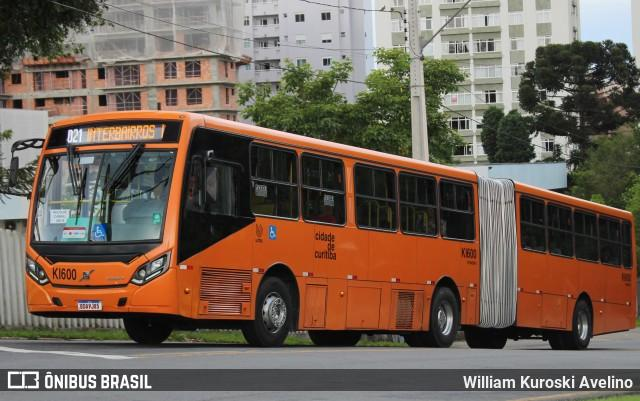INTERBAIRROS I: (84, 123, 168, 144)
